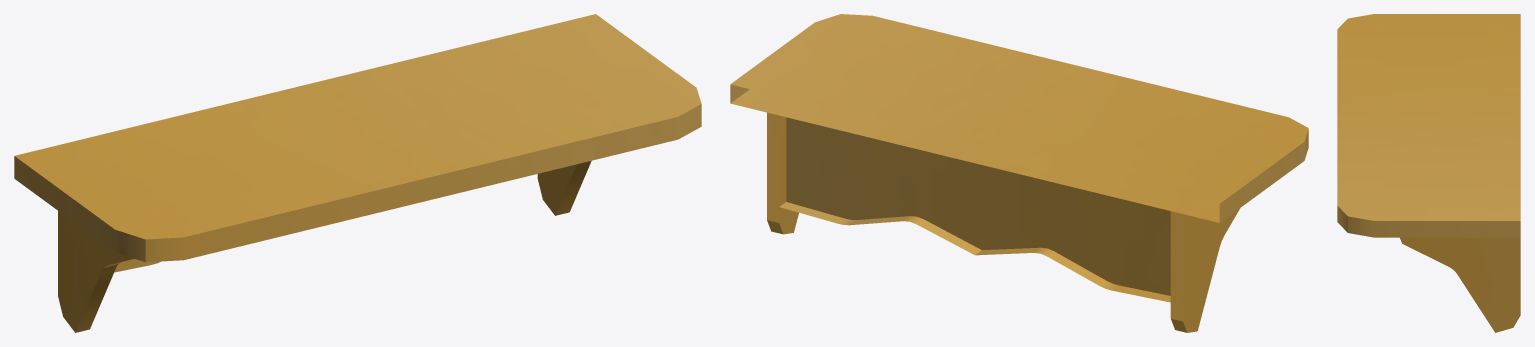
The model's file is SM_WallHang_01.fbx.
3 renders of one model, left to right at view 1: azimuth 30°, elevation 25°; view 2: azimuth 150°, elevation 25°; view 3: azimuth 270°, elevation 25°, orthographic. The views are drawn at different scales.
Visible parts, largest first — view 1: SM_WallHang_01; view 2: SM_WallHang_01; view 3: SM_WallHang_01.
Boxes of the visible parts, box(x1,y1,x2,y2) form: SM_WallHang_01: box(14, 14, 701, 332); SM_WallHang_01: box(730, 14, 1308, 332); SM_WallHang_01: box(1337, 14, 1520, 332).
Bounding box in the file's own units: 40 × 11.5 × 15.
